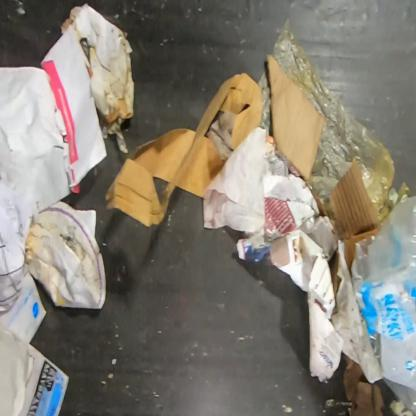cardboard: (104, 73, 262, 227), (60, 3, 134, 154), (266, 54, 325, 178), (329, 160, 381, 276), (342, 353, 386, 415), (327, 247, 341, 304)
soft_plastic: (270, 18, 413, 225), (351, 195, 415, 415), (257, 65, 273, 137)
